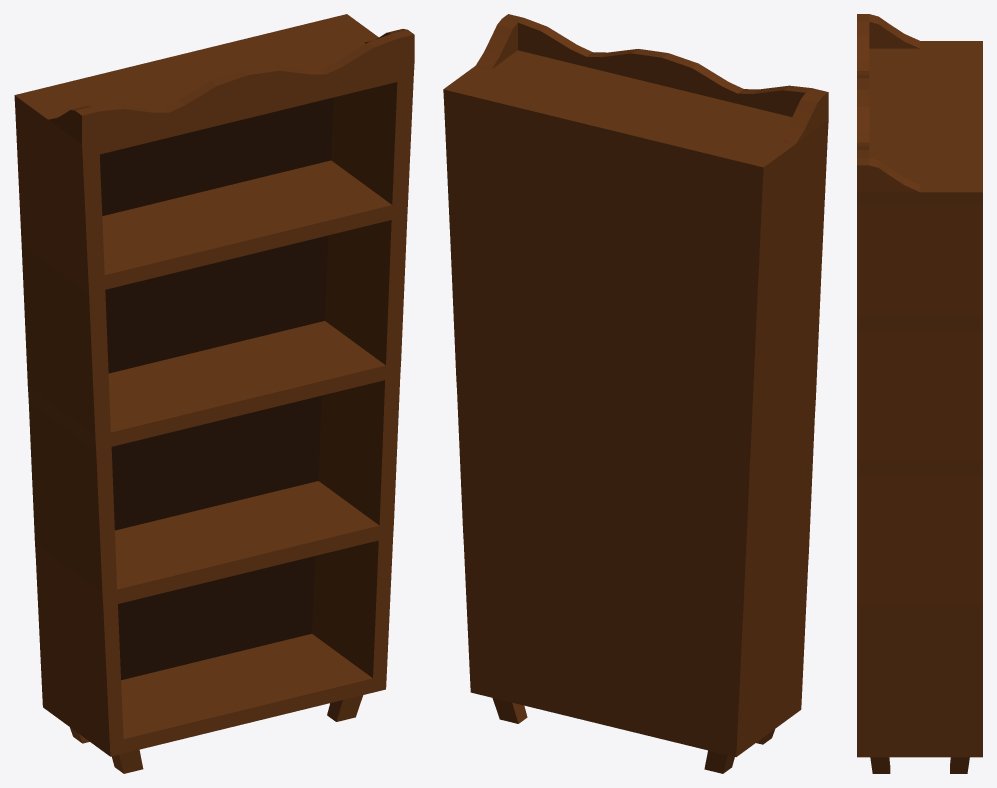
Rendered from Kast.fbx.
3 views of the same model, side by side, from view 1: azimuth 30°, elevation 25°; view 2: azimuth 150°, elevation 25°; view 3: azimuth 270°, elevation 25° (orthographic). The views are drawn at different scales.
Parts seen in each view (by area): view 1: Cube; view 2: Cube; view 3: Cube.
Boxes of the visible parts, left/top/right/bottom form: Cube: left=14, top=14, right=414, bottom=773; Cube: left=443, top=14, right=828, bottom=773; Cube: left=857, top=14, right=982, bottom=773.
Bounding box in the file's own units: 106 × 206 × 37.3.
